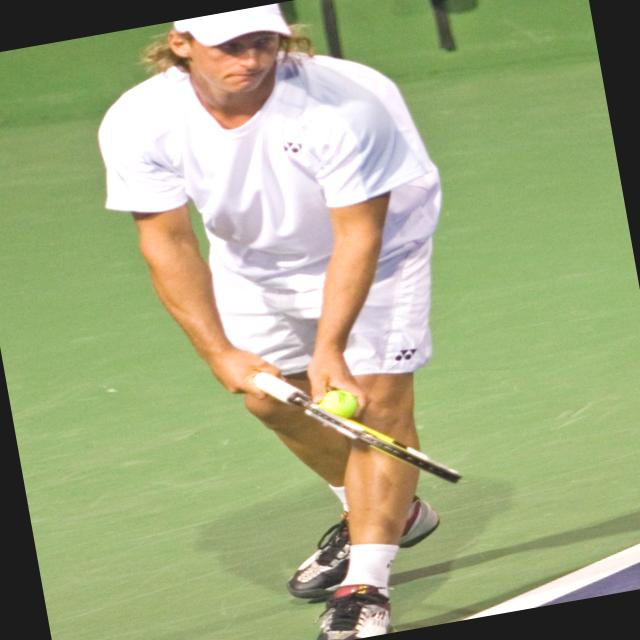Tennis ball: (311, 384, 359, 423)
